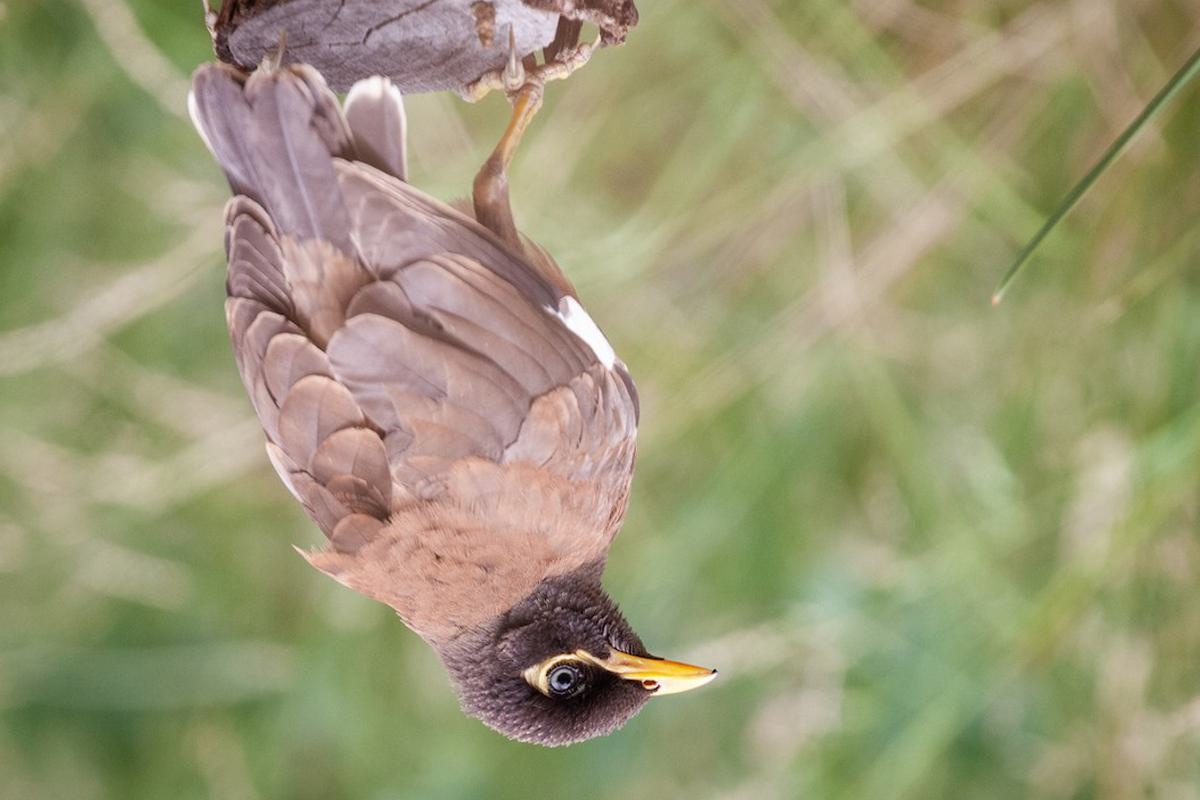myna: (181, 35, 730, 750)
